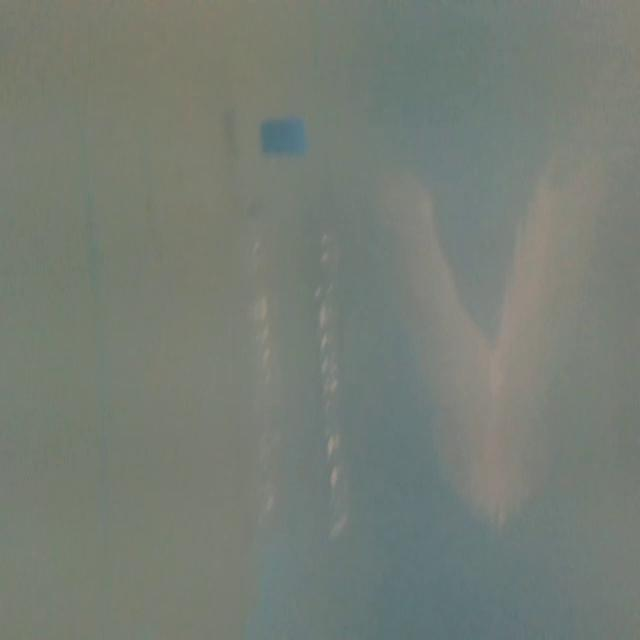plastic bottle: (242, 114, 349, 558)
